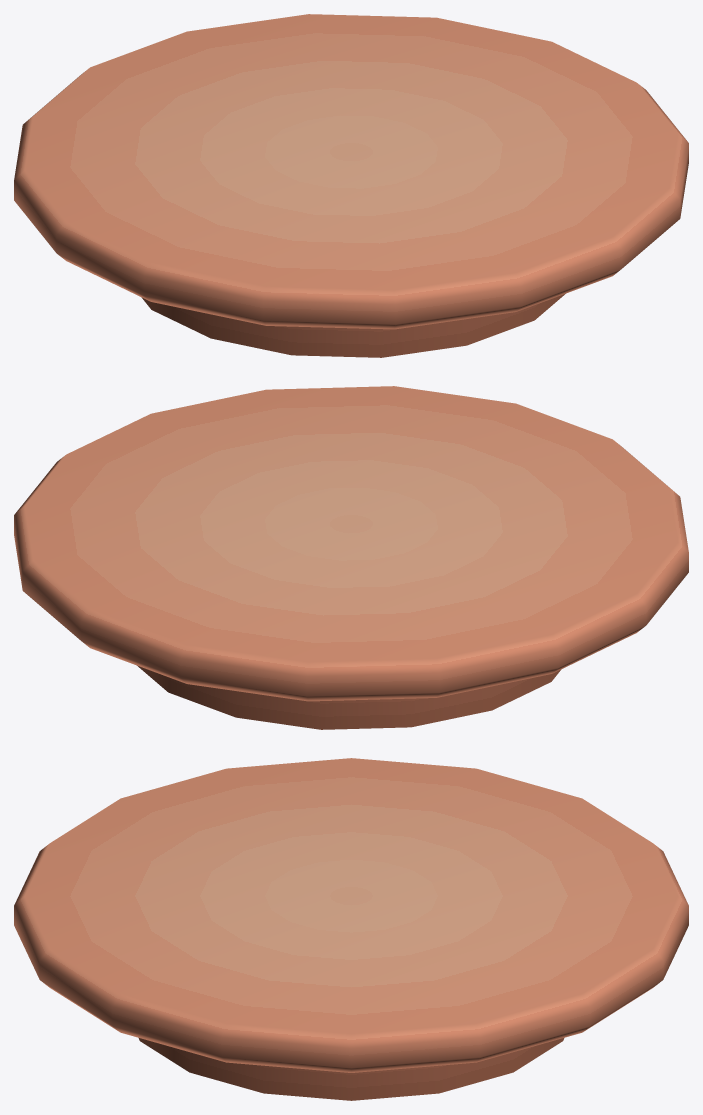
The model's file is SM_Table_10.fbx.
The picture shows the model from 3 angles, top to bottom: view 1: azimuth 30°, elevation 25°; view 2: azimuth 150°, elevation 25°; view 3: azimuth 270°, elevation 25°; orthographic projection.
Parts seen in each view (by area): view 1: SM_Table_10; view 2: SM_Table_10; view 3: SM_Table_10.
Part boxes in pixels (x1,y1,x2,y2): SM_Table_10: [14, 14, 688, 357]; SM_Table_10: [14, 386, 688, 729]; SM_Table_10: [14, 758, 688, 1100].
Bounding box in the file's own units: 268 × 47.27 × 268.
Materials: 1 (1 with a texture image).
